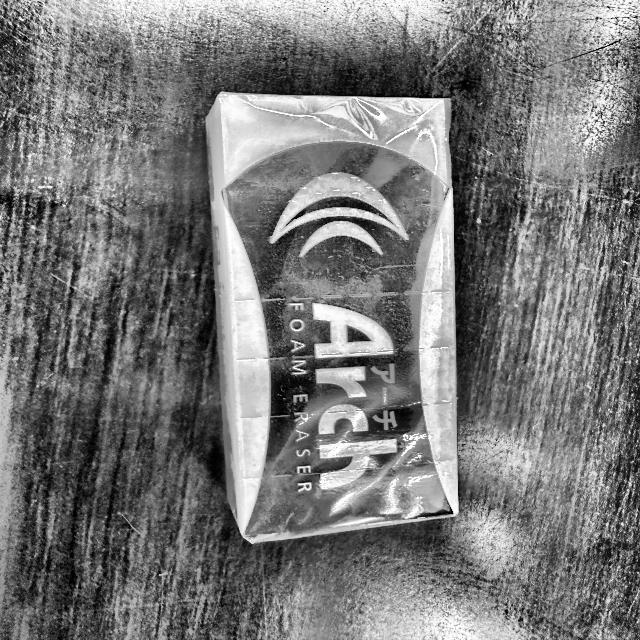eraser: (170, 68, 489, 552)
